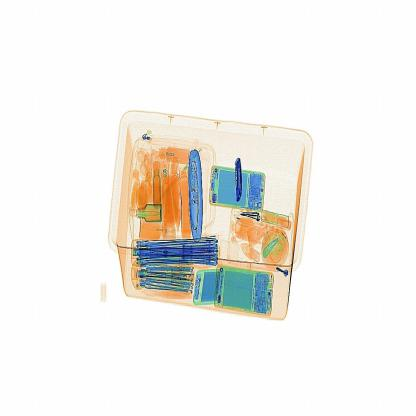knife: (230, 146, 255, 205)
